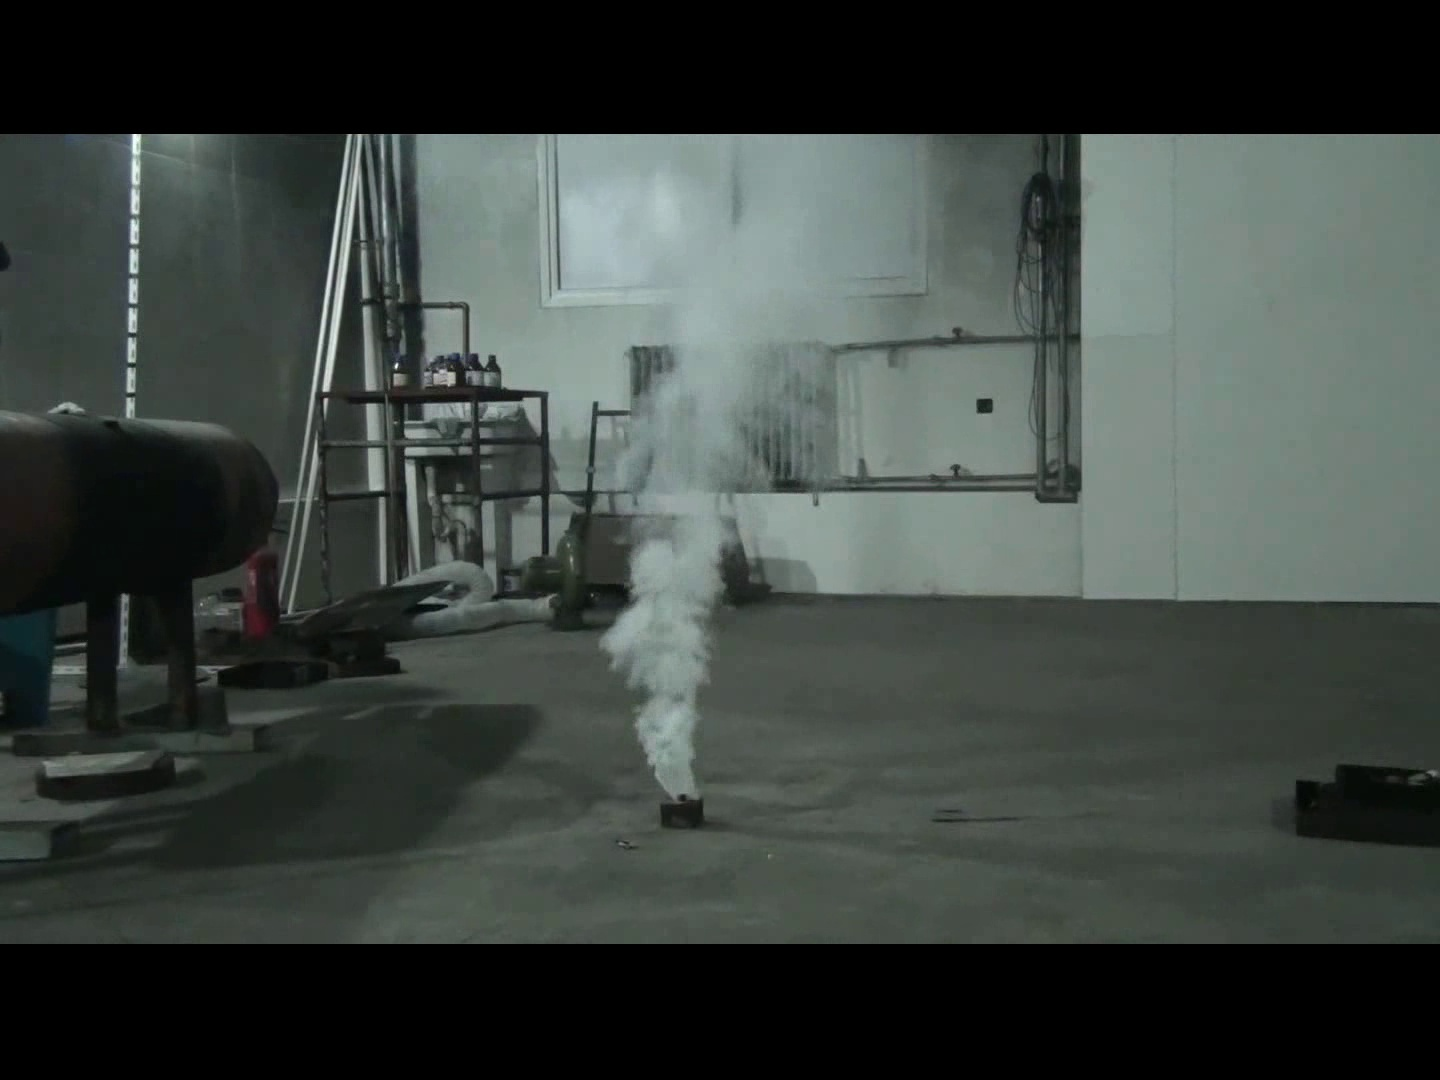smoke: (592, 196, 856, 796)
